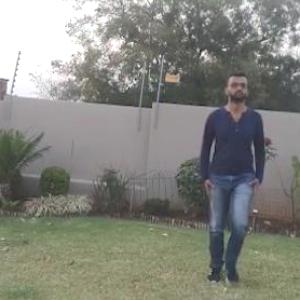follow: (184, 62, 266, 292)
